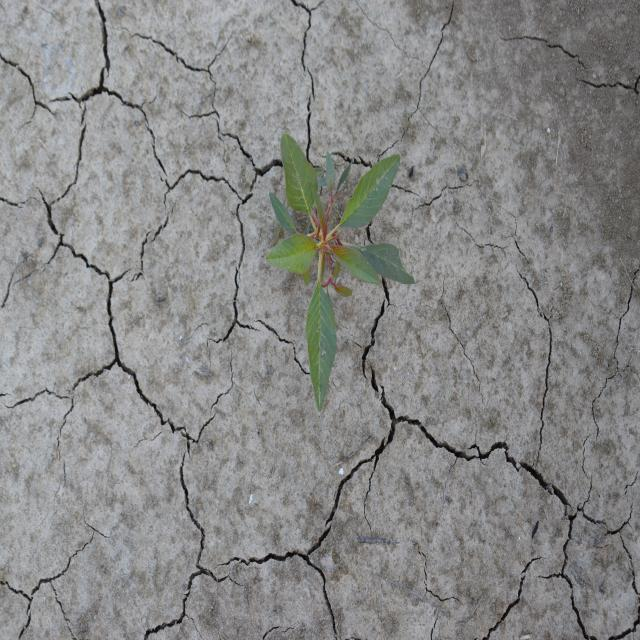Waterhemp: (264, 133, 418, 414)
